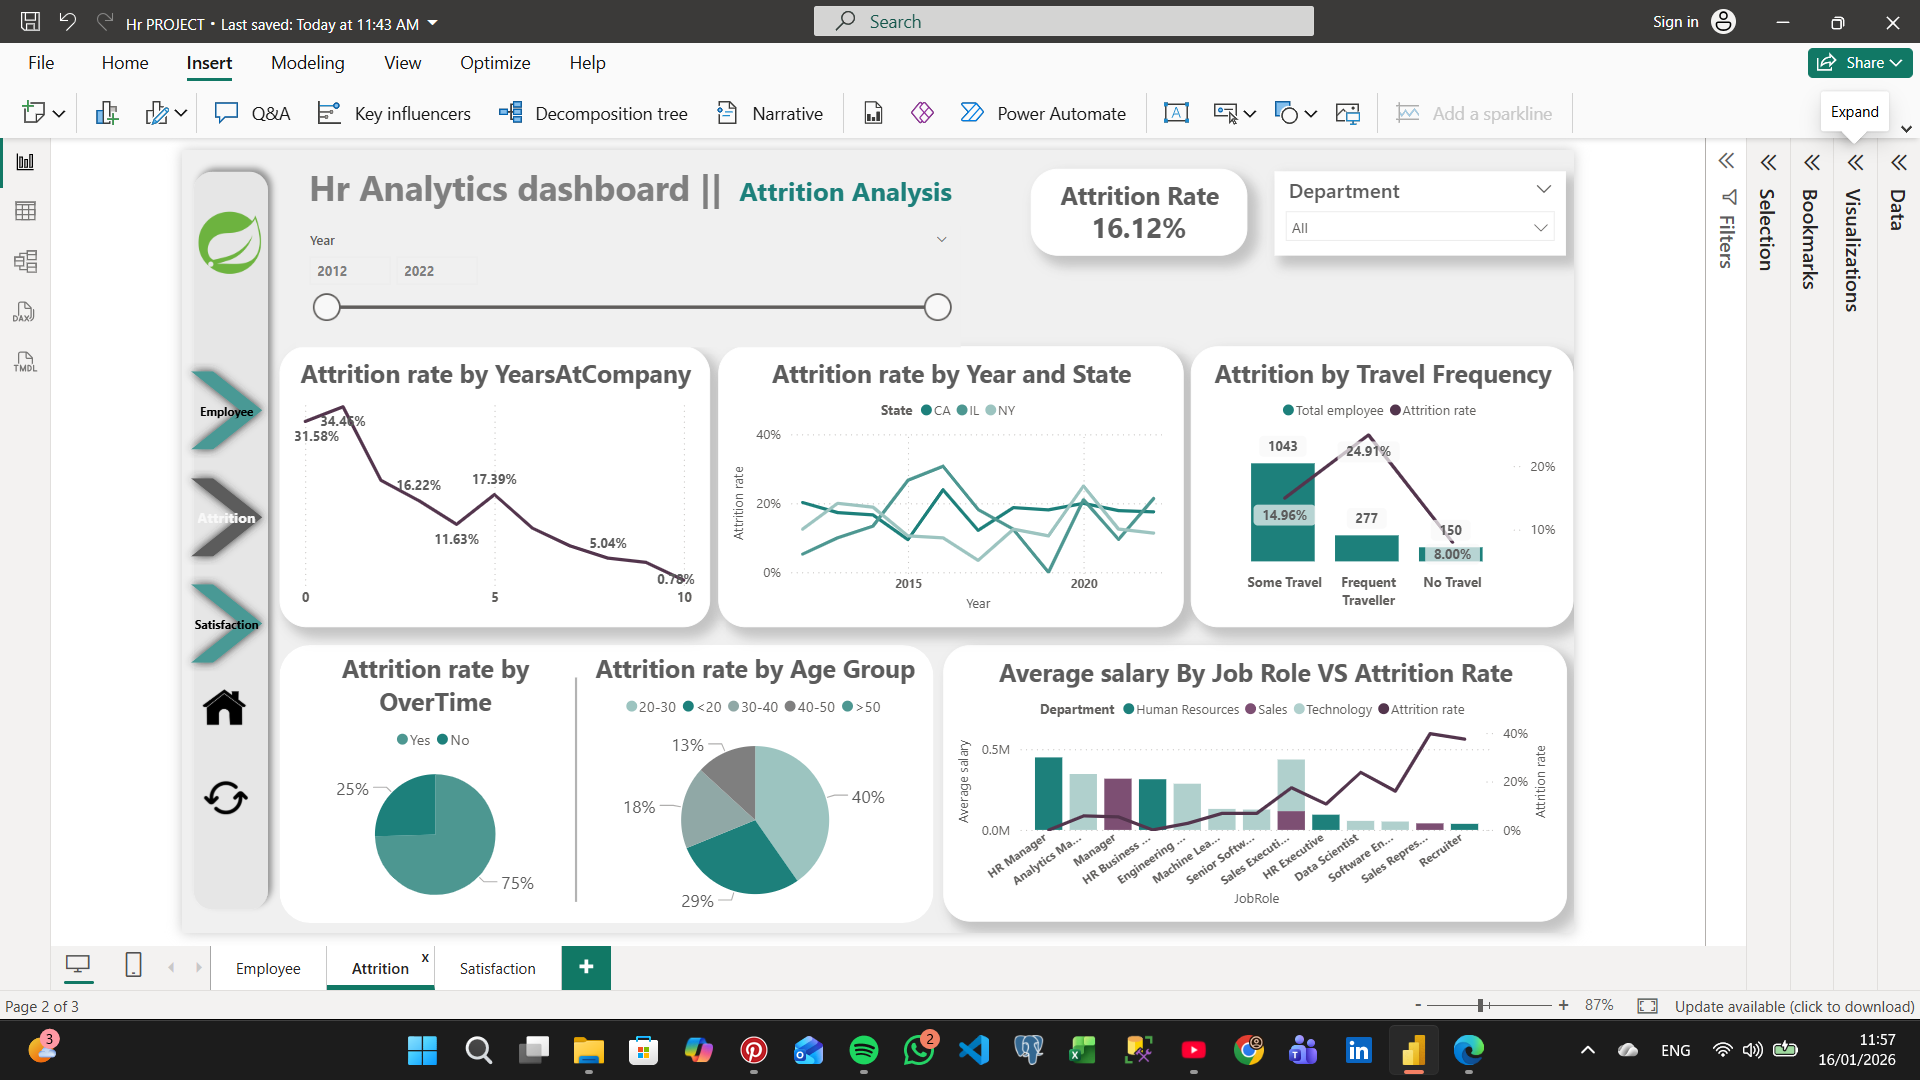

This screenshot's page, from the dashboard's own definition file:
{"tool":"powerbi","page":{"name":"Attrition","canvas":[1280,720],"ordinal":1},"visuals":[{"type":"textbox","box":[89.3,8.4,645.4,60.3],"z":0},{"type":"shape","box":[89.9,455.7,601.3,255.7],"z":1000},{"type":"pieChart","fields":{"Category":["Dim Employee.Age Group"],"Y":["Maesures.Attrition rate"]},"box":[374.7,460.8,305.1,250.6],"z":2000},{"type":"shape","box":[0,8.9,89.9,700],"z":3000},{"type":"pieChart","fields":{"Y":["Maesures.Attrition rate"],"Category":["Dim Employee.OverTime"]},"box":[105.1,460.8,257,246.8],"z":4000},{"type":"image","box":[0,474.1,79.6,77.2],"z":5000},{"type":"shape","box":[334.2,484.8,55.7,206.3],"z":6000},{"type":"image","box":[3.6,563.4,73.6,67.6],"z":7000},{"type":"card","title":"Attrition Rate ","fields":{"Values":["Maesures.Attrition rate"]},"box":[780.6,16.9,199.1,79.6],"z":8000},{"type":"slicer","fields":{"Values":["Dim Employee.Department"]},"box":[1005,19.3,267.8,77.2],"z":9000},{"type":"lineStackedColumnComboChart","title":"Average salary By Job Role VS Attrition Rate","fields":{"Y":["Maesures.Average salary"],"Category":["Dim Employee.JobRole"],"Y2":["Maesures.Attrition rate"],"Series":["Dim Employee.Department"]},"box":[700,455.7,573.4,254.4],"z":10000},{"type":"lineChart","fields":{"Category":["Dim Employee.YearsAtCompany"],"Y":["Maesures.Attrition rate"]},"box":[89.9,181,396.2,258.2],"z":11000},{"type":"lineChart","fields":{"Y":["Maesures.Turnover rate"],"Category":["DimDate.Year"],"Series":["Dim Employee.State"]},"box":[493,181,427.8,258.2],"z":12000},{"type":"lineStackedColumnComboChart","title":" Attrition by Travel Frequency","fields":{"Category":["Dim Employee.BusinessTravel"],"Y2":["Maesures.Attrition rate"],"Y":["Maesures.Total employee"]},"box":[927.8,181,351.9,258.2],"z":13000},{"type":"slicer","fields":{"Values":["DimDate.Year"]},"box":[105.1,69.6,611.4,111.4],"z":14000},{"type":"image","box":[10.1,38,67.1,93.7],"z":14002},{"type":"pageNavigator","box":[0,195.4,82.8,285.1],"z":14003}]}

Visuals, with their boxes on the page's 1280x720 design canvas (x1, y1, x2, y2). These are canvas units, not pixel positions in the 1920x1080 screenshot, which may show the page scaled, cropped or inside an application window:
textbox: locate(89, 8, 735, 69)
shape: locate(90, 456, 691, 711)
pieChart - Dim Employee.Age Group x Maesures.Attrition rate: locate(375, 461, 680, 711)
shape: locate(0, 9, 90, 709)
pieChart - Maesures.Attrition rate x Dim Employee.OverTime: locate(105, 461, 362, 708)
image: locate(0, 474, 80, 551)
shape: locate(334, 485, 390, 691)
image: locate(4, 563, 77, 631)
"Attrition Rate " card: locate(781, 17, 980, 96)
slicer - Dim Employee.Department: locate(1005, 19, 1273, 96)
"Average salary By Job Role VS Attrition Rate" lineStackedColumnComboChart: locate(700, 456, 1273, 710)
lineChart - Dim Employee.YearsAtCompany x Maesures.Attrition rate: locate(90, 181, 486, 439)
lineChart - Maesures.Turnover rate x DimDate.Year: locate(493, 181, 921, 439)
" Attrition by Travel Frequency" lineStackedColumnComboChart: locate(928, 181, 1280, 439)
slicer - DimDate.Year: locate(105, 70, 716, 181)
image: locate(10, 38, 77, 132)
pageNavigator: locate(0, 195, 83, 480)
